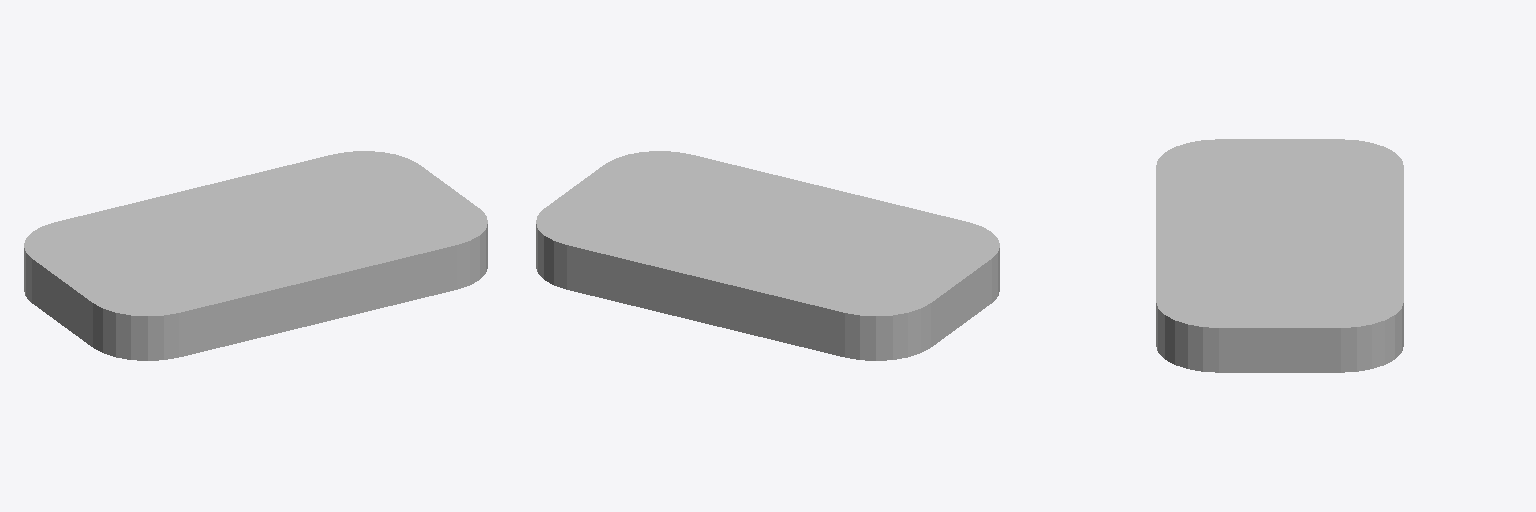
File: original-39.obj
3 views of the same model, side by side, from view 1: azimuth 30°, elevation 25°; view 2: azimuth 150°, elevation 25°; view 3: azimuth 270°, elevation 25° (orthographic).
Parts seen in each view (by area): view 1: mesh38/mesh38-geometry#mesh38-geometry; view 2: mesh38/mesh38-geometry#mesh38-geometry; view 3: mesh38/mesh38-geometry#mesh38-geometry.
Boxes of the visible parts, <box> form: mesh38/mesh38-geometry#mesh38-geometry: <box>24,151,487,360</box>; mesh38/mesh38-geometry#mesh38-geometry: <box>536,151,999,360</box>; mesh38/mesh38-geometry#mesh38-geometry: <box>1156,139,1403,372</box>.
Size of the model in its own units: 0.0581 by 0.0064 by 0.0322.